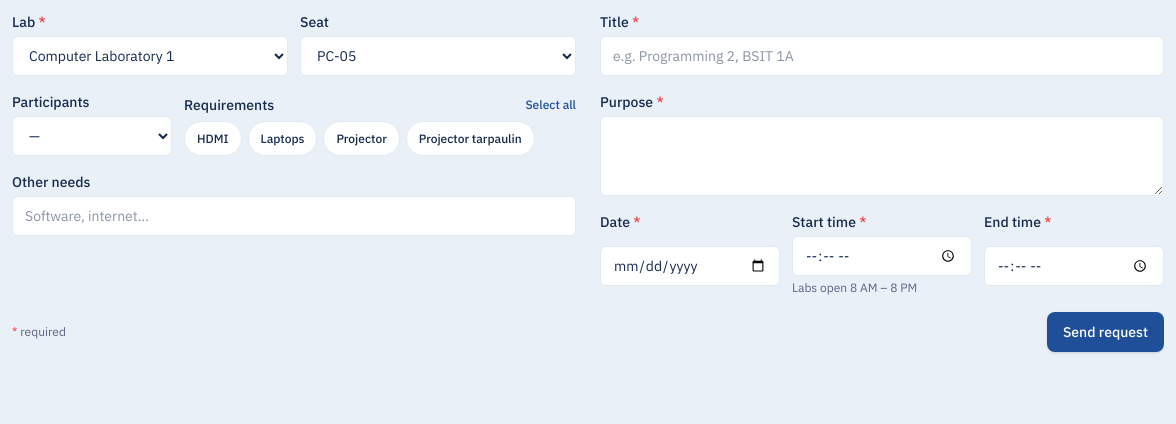
Test case: ReservationForm › prefills a single PC and shows server errors
Expected: the dropdown labelled "Seat" shows "PC-05", [300, 36, 576, 76]
Type "Programming 1" into the field labelled "Title *" at (882, 56), box [600, 36, 1164, 76]
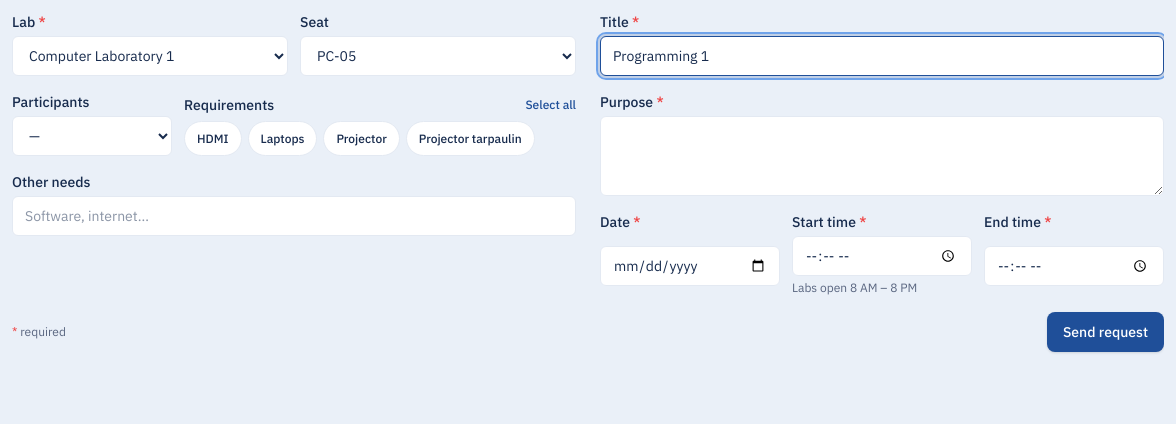
Type "Lab class" into the text box labelled "Purpose *" at (882, 156), box [600, 116, 1164, 196]
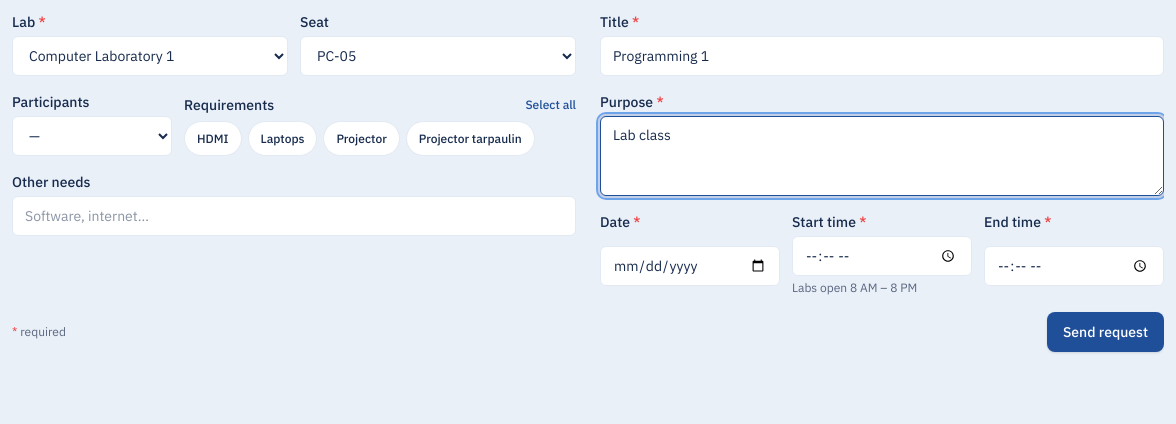
Type "2099-01-05" into the date field labelled "Date *" at (690, 266), box [600, 246, 780, 286]
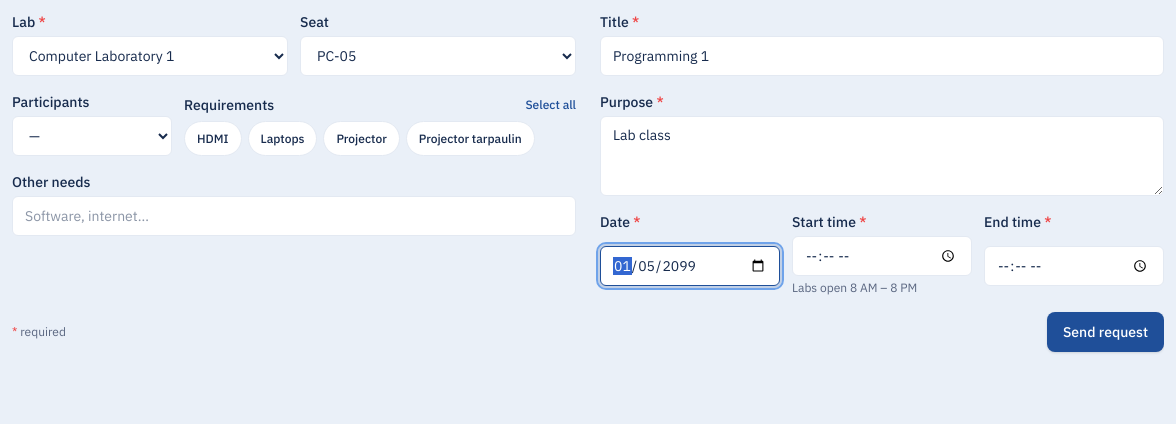
Type "08:00" into the time field labelled "Start time * Labs open 8 AM – 8 PM" at (882, 256), box [792, 236, 972, 276]
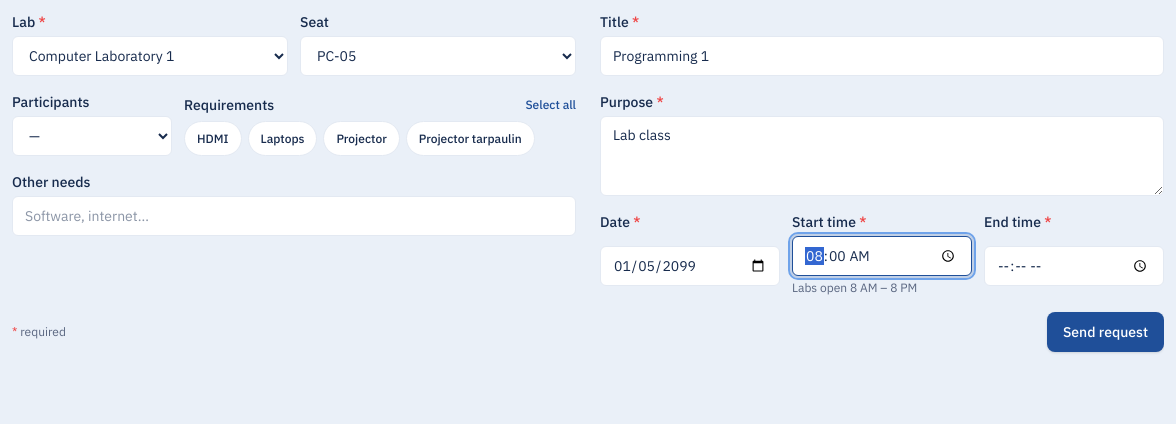
Type "10:00" into the time field labelled "End time *" at (1074, 266), box [984, 246, 1164, 286]
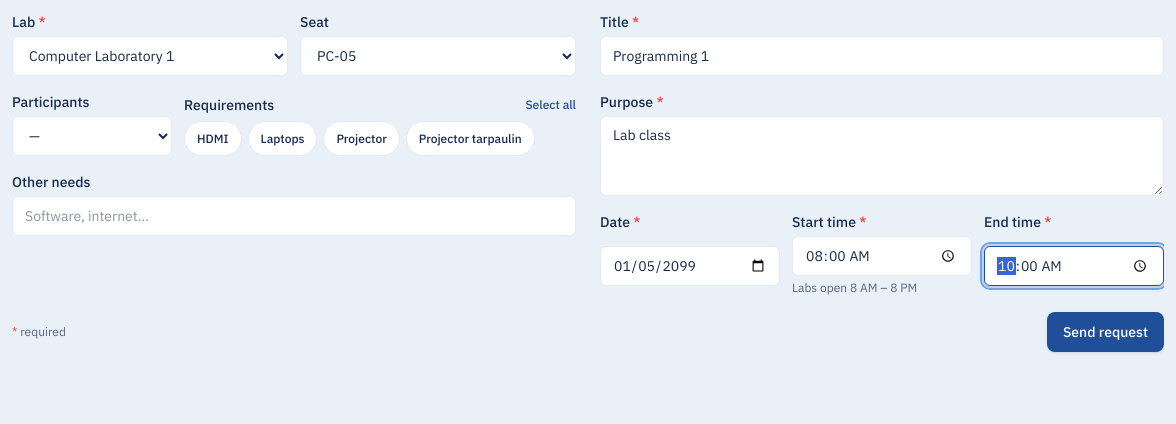
Click the button "Send request" at (1106, 332), box [1047, 312, 1164, 352]
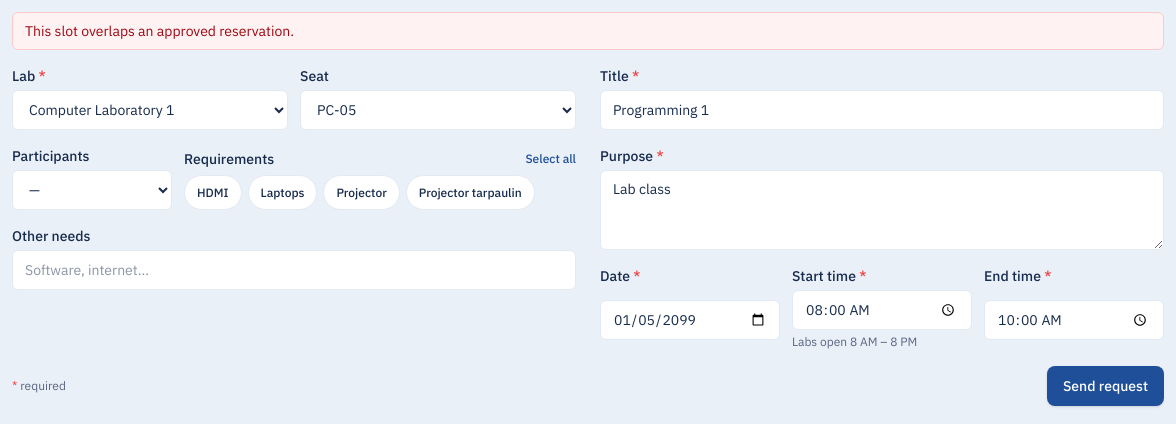
Result: the message shows "overlaps" at [25, 22, 294, 40]
